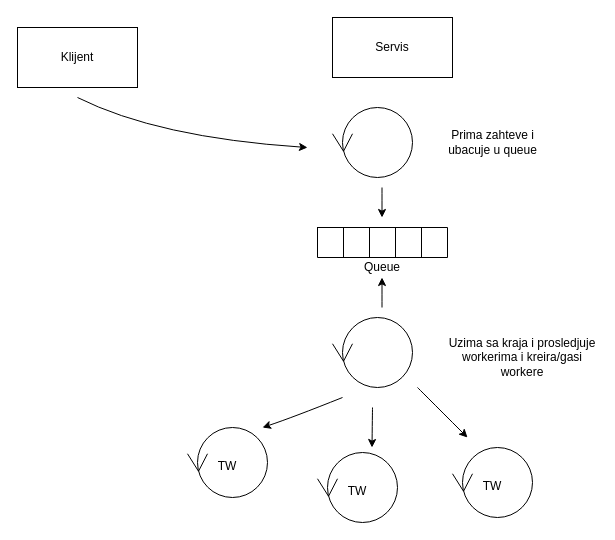
Image size: 615x540. Some labels were removed from this diagram. The box of each missing label's shape, as (x1, y1, x2, y2) in pixels:
TD: (332, 316, 412, 388)
TS: (332, 106, 412, 178)
